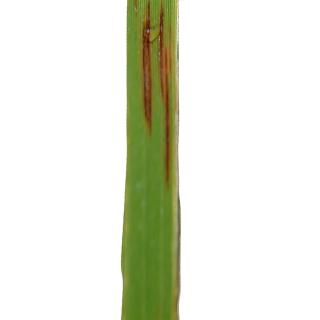Bercak-Cokelat-Sempit: (155, 0, 178, 194), (140, 0, 150, 146)
